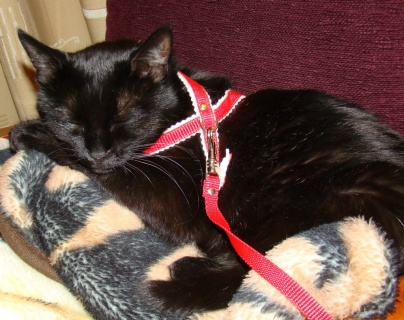Cat: (4, 24, 404, 316)
